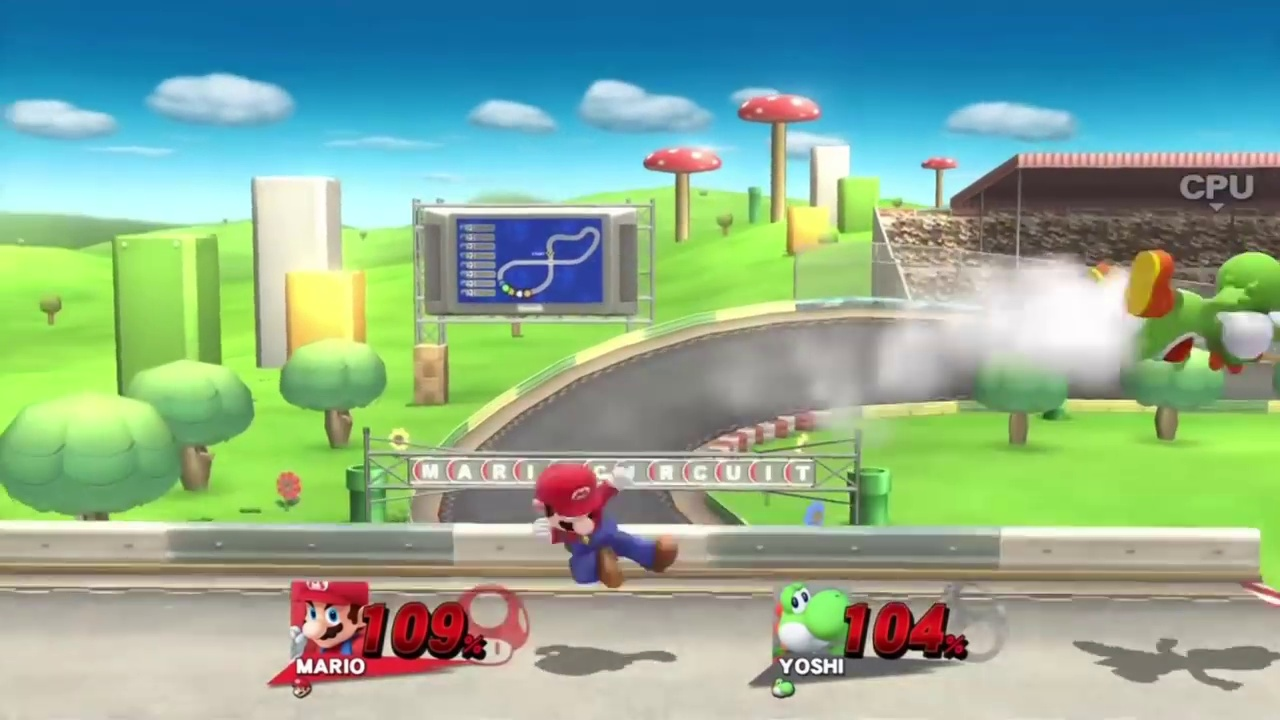Mario: (530, 464, 678, 588)
